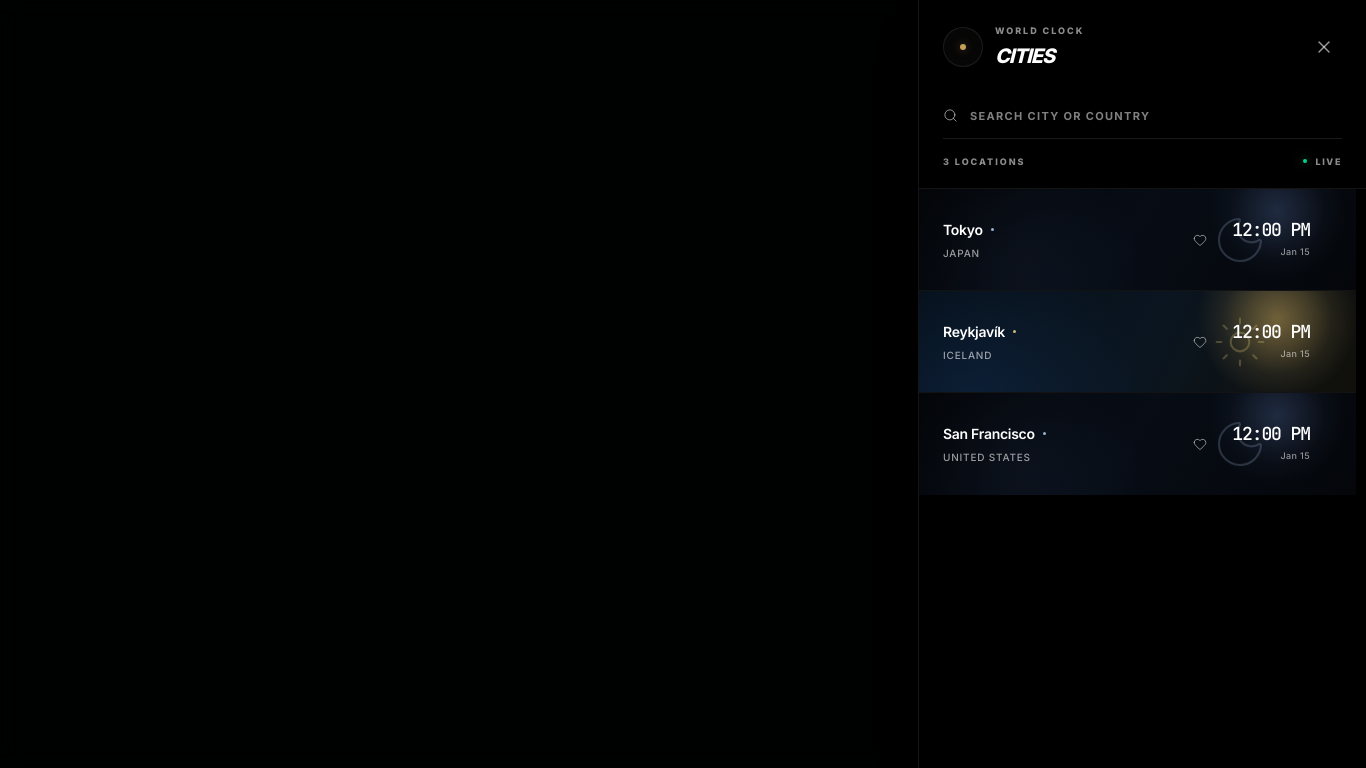
CitiesSection — search › clears the query when the clear button is clicked
The image size is (1366, 768).
Expected: the dialog is shown, [918,0,1365,767]
Type "tok" into the search field named "Search cities" at (1156, 116), box [970,94,1342,138]
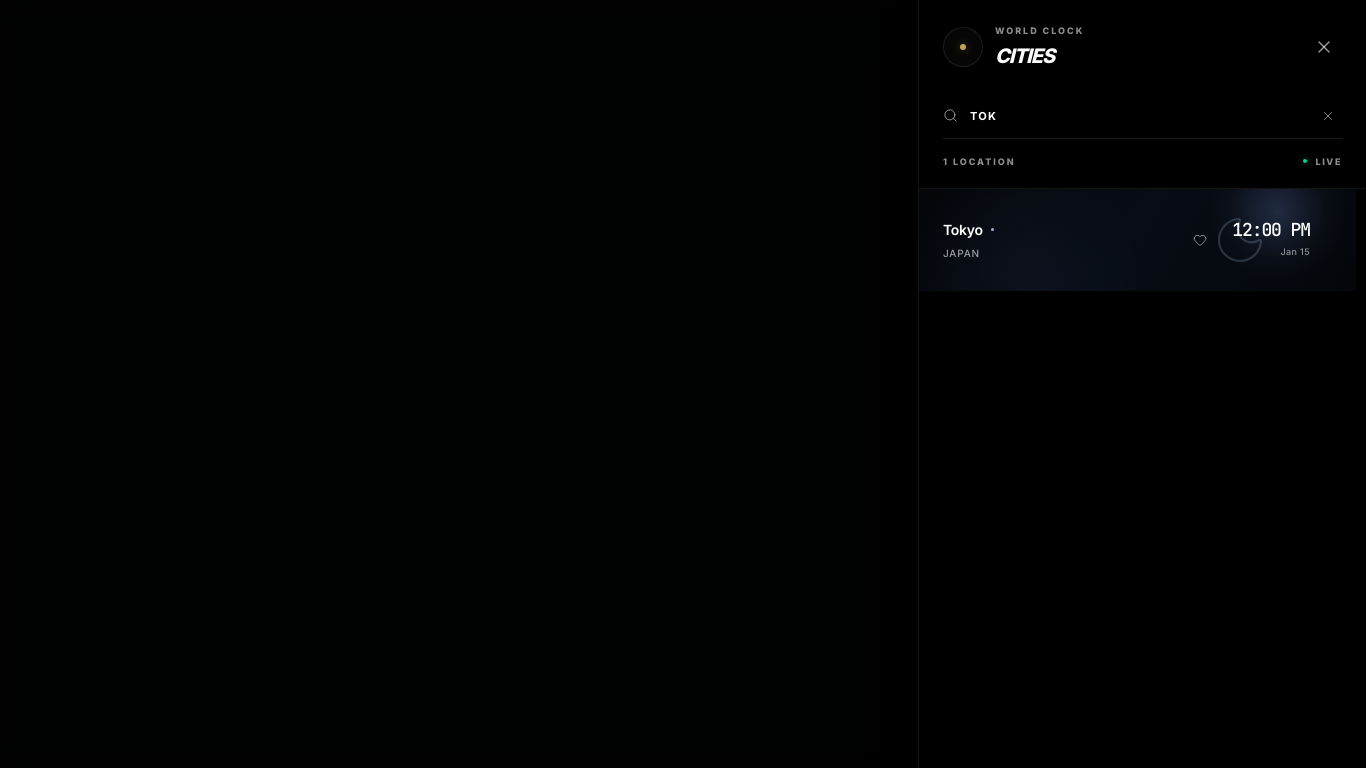
Click the button named "Clear search" at (1328, 116), box [1314,102,1342,130]
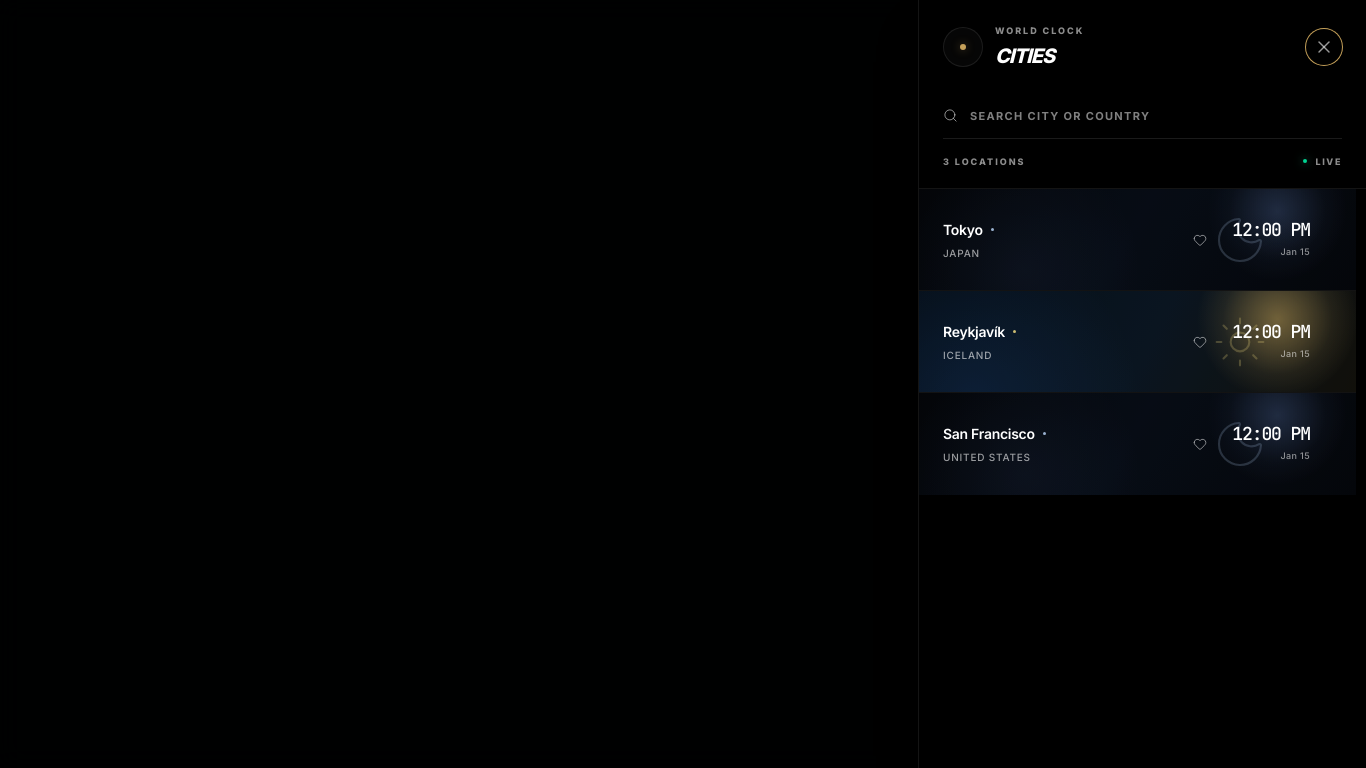
Expected: the search field named "Search cities" is empty, [970,94,1342,138]
